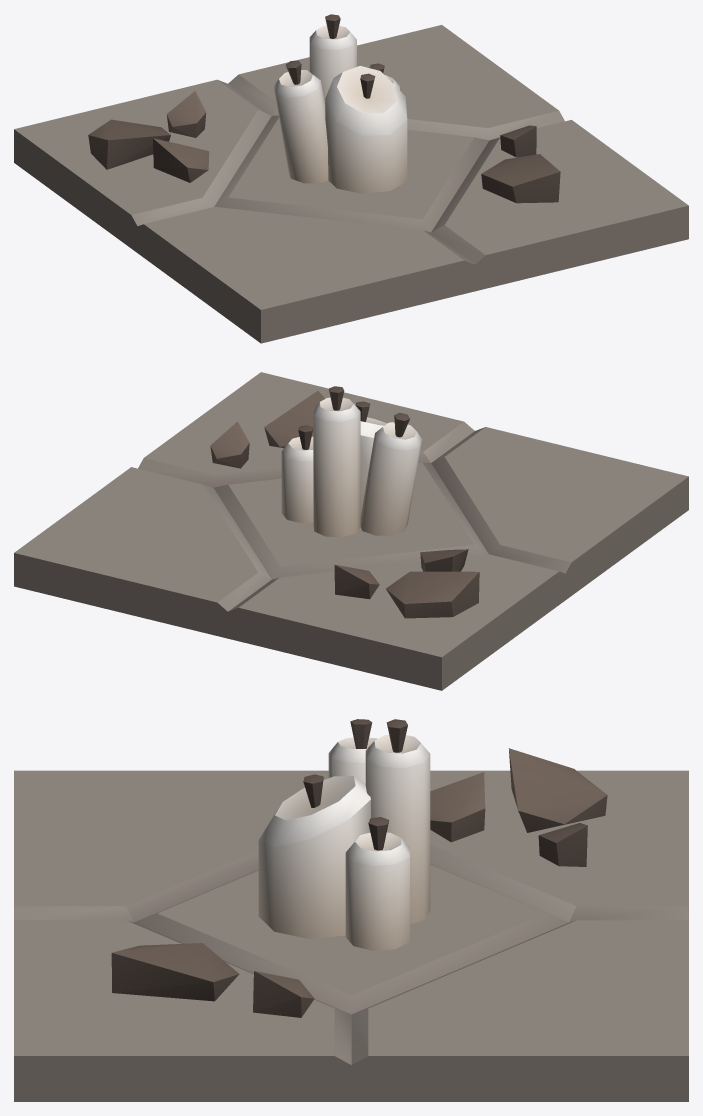
Rendered from floor_tile_small_decorated.obj.
The picture shows the model from 3 angles, top to bottom: view 1: azimuth 30°, elevation 25°; view 2: azimuth 150°, elevation 25°; view 3: azimuth 270°, elevation 25°; orthographic projection. The views are drawn at different scales.
Visible parts, largest first — view 1: floor_tile_small_decorated; view 2: floor_tile_small_decorated; view 3: floor_tile_small_decorated.
Boxes of the visible parts, x1,y1,x2,y2 form: floor_tile_small_decorated: (14,14,688,343); floor_tile_small_decorated: (14,372,688,690); floor_tile_small_decorated: (14,719,688,1101).
Size of the model in its own units: 2 by 0.773 by 2.
1 material, 1 textured.
